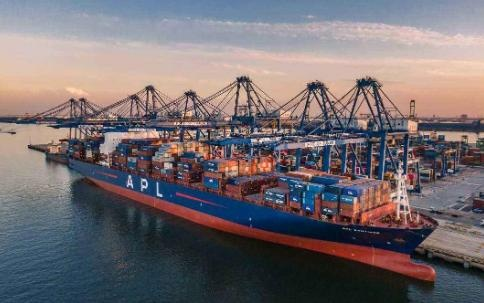Cargoship: (61, 123, 444, 280)
